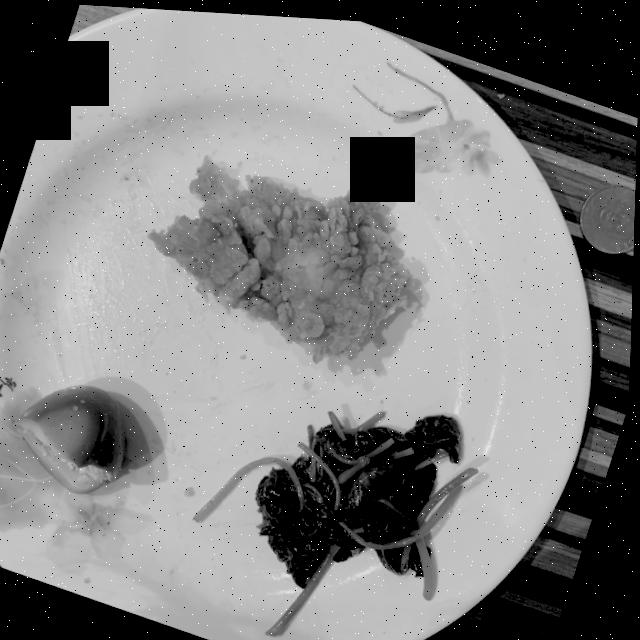coin: (581, 175, 636, 245)
fried chicken cutlet: (149, 154, 415, 357)
soy egg: (16, 382, 128, 492)
sweet potato leaves: (196, 406, 480, 632)
